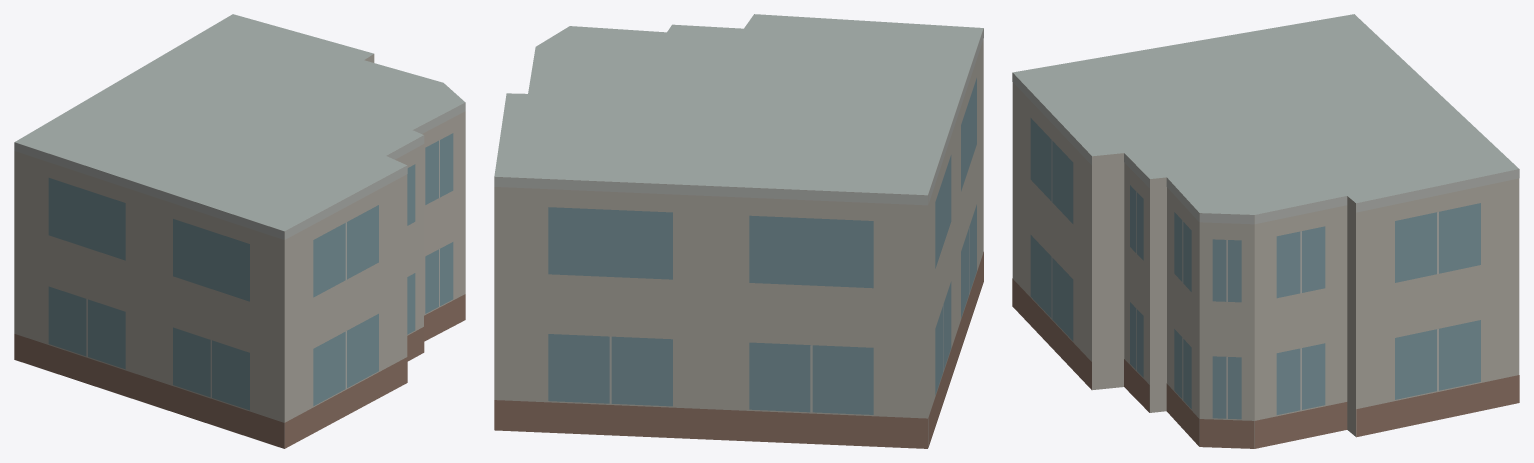
Rendered from survey-upis-32995112.glb.
3 views of the same model, side by side, from view 1: azimuth 30°, elevation 25°; view 2: azimuth 150°, elevation 25°; view 3: azimuth 270°, elevation 25° (orthographic). The views are drawn at different scales.
Visible parts, largest first — view 1: survey-upis-32995112.tmp; view 2: survey-upis-32995112.tmp; view 3: survey-upis-32995112.tmp.
Boxes of the visible parts, x1=… form: survey-upis-32995112.tmp: x1=14, y1=14, x2=465, y2=448; survey-upis-32995112.tmp: x1=494, y1=14, x2=983, y2=448; survey-upis-32995112.tmp: x1=1012, y1=14, x2=1519, y2=448.
Size of the model in its own units: 11.25 by 6.1 by 11.99.
